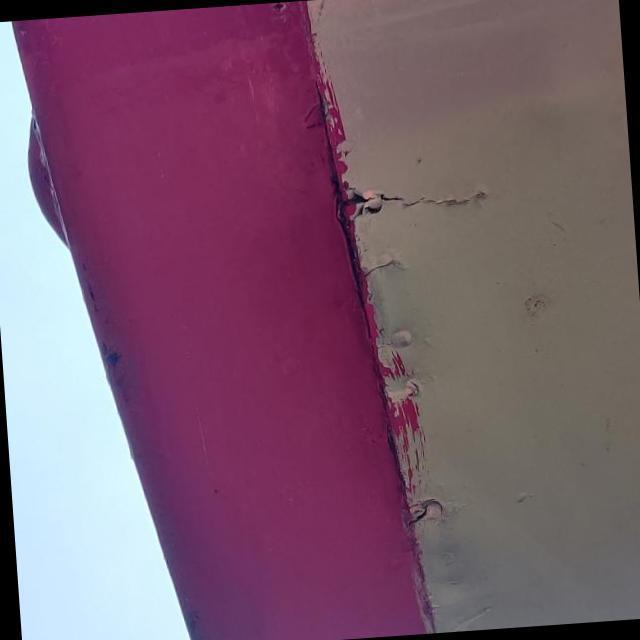Rupture: (326, 170, 500, 236), (391, 490, 444, 537), (354, 248, 402, 286)
